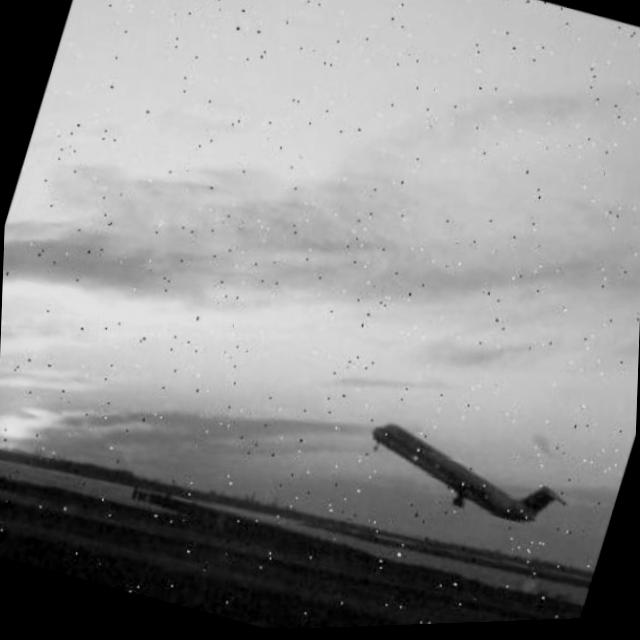aeroplane: (353, 413, 580, 546)
